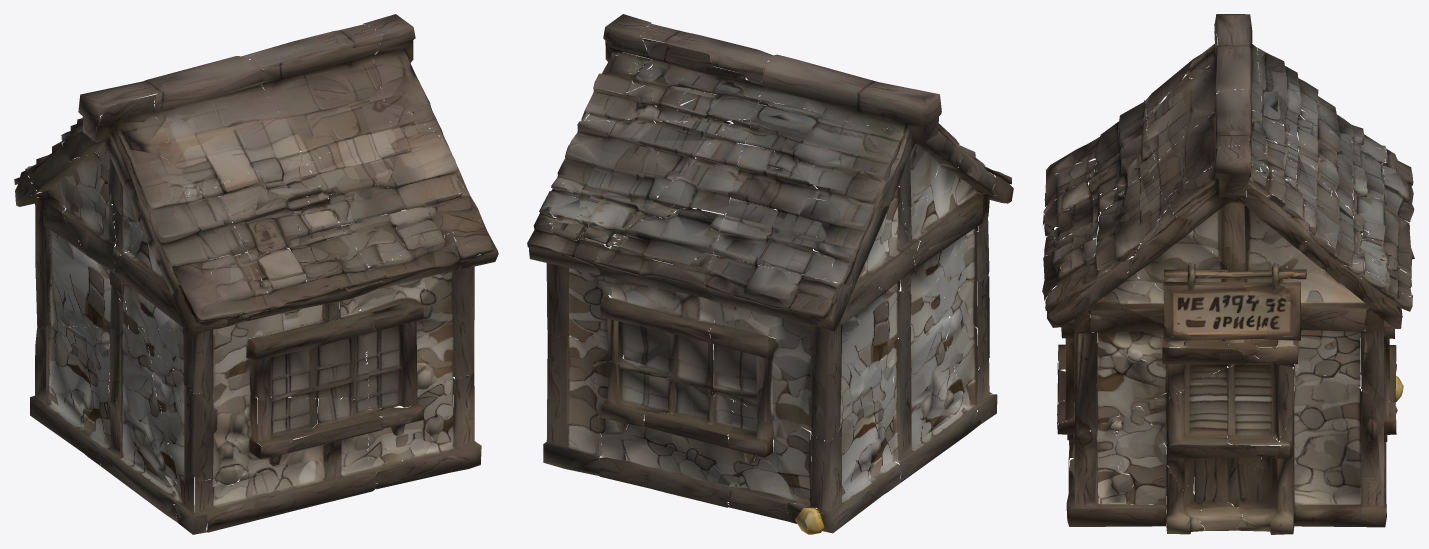
File: post-office.glb
The picture shows the model from 3 angles, left to right: view 1: azimuth 30°, elevation 25°; view 2: azimuth 150°, elevation 25°; view 3: azimuth 270°, elevation 25°; orthographic projection. The views are drawn at different scales.
Visible parts, largest first — view 1: tripo_node_b66e224d-3069-441c-904a-5879745b35dc; view 2: tripo_node_b66e224d-3069-441c-904a-5879745b35dc; view 3: tripo_node_b66e224d-3069-441c-904a-5879745b35dc.
Boxes of the visible parts, x1=… form: tripo_node_b66e224d-3069-441c-904a-5879745b35dc: x1=14, y1=14, x2=498, y2=534; tripo_node_b66e224d-3069-441c-904a-5879745b35dc: x1=527, y1=14, x2=1013, y2=534; tripo_node_b66e224d-3069-441c-904a-5879745b35dc: x1=1042, y1=14, x2=1414, y2=534.
Bounding box in the file's own units: 4.93 × 5.55 × 5.02.
1 material, 1 textured.
